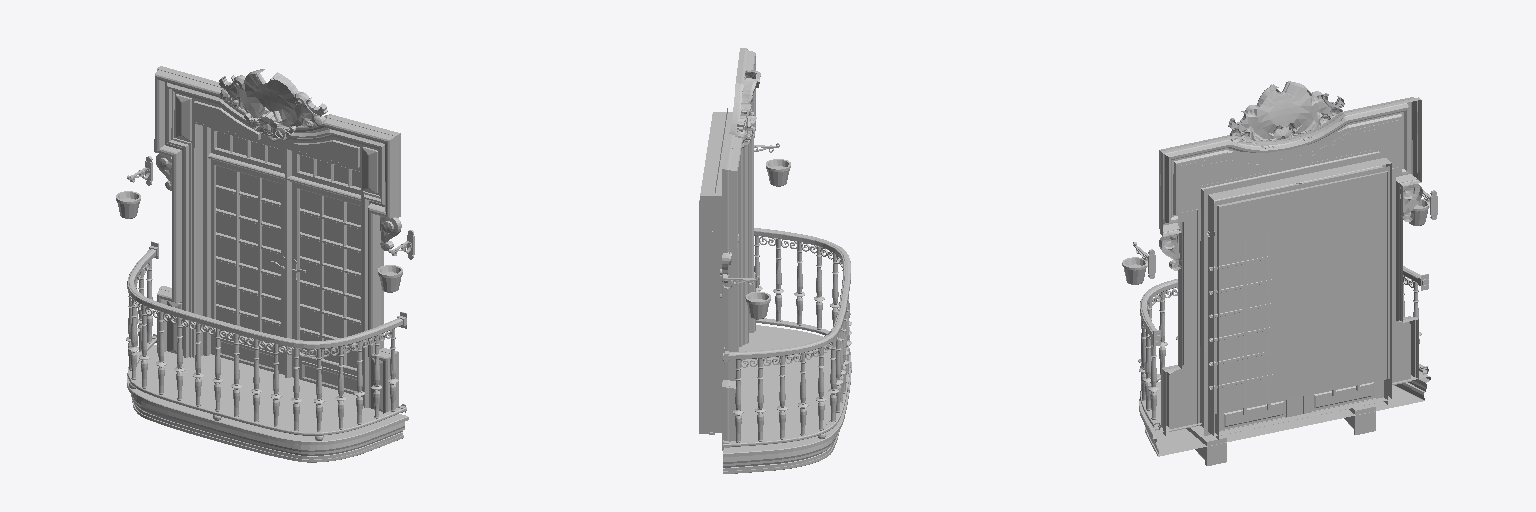
3 views of the same model, side by side, from view 1: azimuth 30°, elevation 25°; view 2: azimuth 150°, elevation 25°; view 3: azimuth 270°, elevation 25° (orthographic).
Parts seen in each view (by area): view 1: Bistro_Research_Exterior_Paris_MainBalcony_01_6103; view 2: Bistro_Research_Exterior_Paris_MainBalcony_01_6103; view 3: Bistro_Research_Exterior_Paris_MainBalcony_01_6103.
Part boxes in pixels (left/top/right/bottom): Bistro_Research_Exterior_Paris_MainBalcony_01_6103: left=116, top=66, right=414, bottom=462; Bistro_Research_Exterior_Paris_MainBalcony_01_6103: left=699, top=48, right=851, bottom=473; Bistro_Research_Exterior_Paris_MainBalcony_01_6103: left=1122, top=81, right=1437, bottom=465.
Bounding box in the file's own units: 3.13 × 5.73 × 4.58.